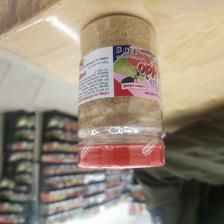Hao_hao: (77, 14, 168, 171)
